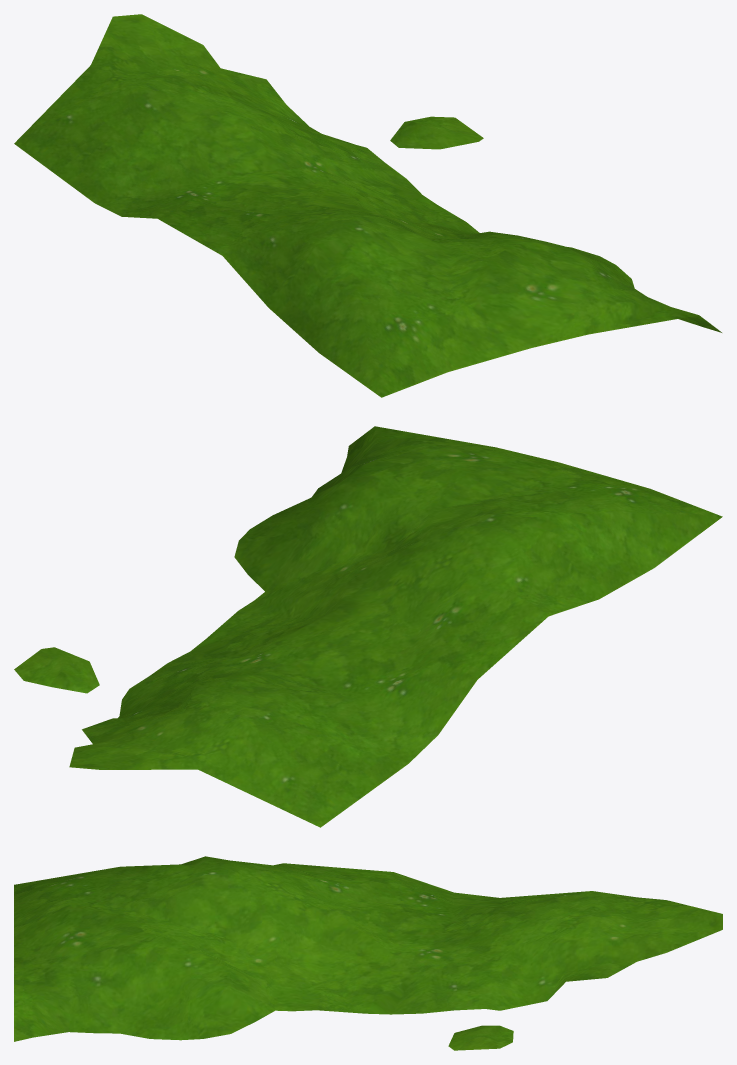
The model's file is Amazon06_Terrain04.FBX.
3 views of the same model, one above another, from view 1: azimuth 30°, elevation 25°; view 2: azimuth 150°, elevation 25°; view 3: azimuth 270°, elevation 25° (orthographic). The views are drawn at different scales.
Visible parts, largest first — view 1: Amazon06_Terrain04; view 2: Amazon06_Terrain04; view 3: Amazon06_Terrain04.
Part boxes in pixels (x1,y1,x2,y2): Amazon06_Terrain04: (14,14,721,397); Amazon06_Terrain04: (14,426,722,827); Amazon06_Terrain04: (14,856,722,1050).
Bounding box in the file's own units: 7507 × 1703 × 15010.
